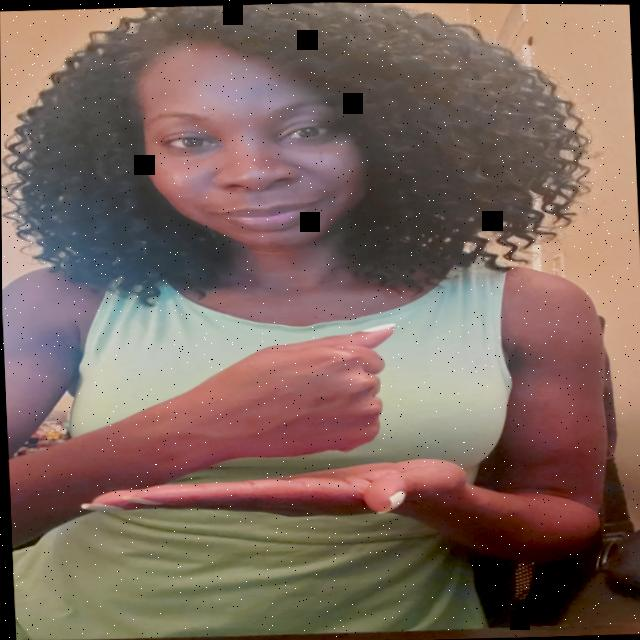Rock: (149, 314, 415, 471)
